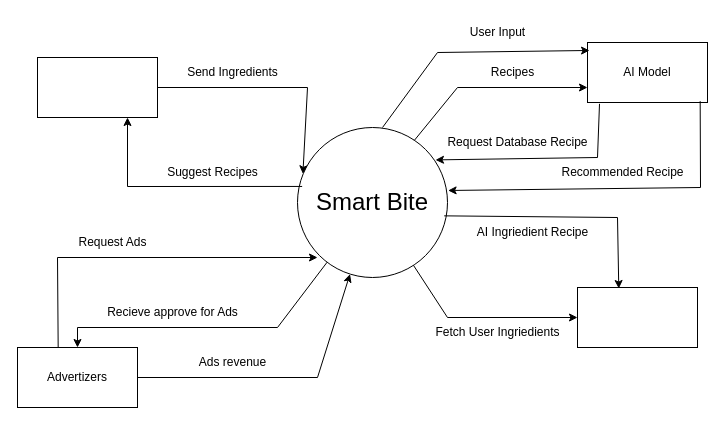
Image size: 726x425. Some labels were removed from this diagram. The centre of each missing label's shape, as x and y in pixels:
"End User" goes at (97,87).
"Recipe Database" goes at (637,317).
